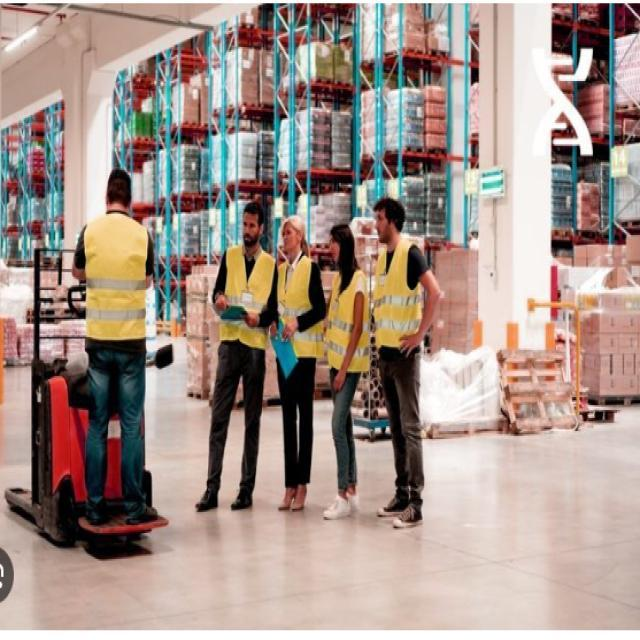boots: (84, 486, 160, 529), (190, 474, 259, 517)
vest: (79, 209, 155, 347), (368, 232, 430, 354), (216, 240, 278, 355), (271, 254, 329, 362), (327, 265, 374, 380)
